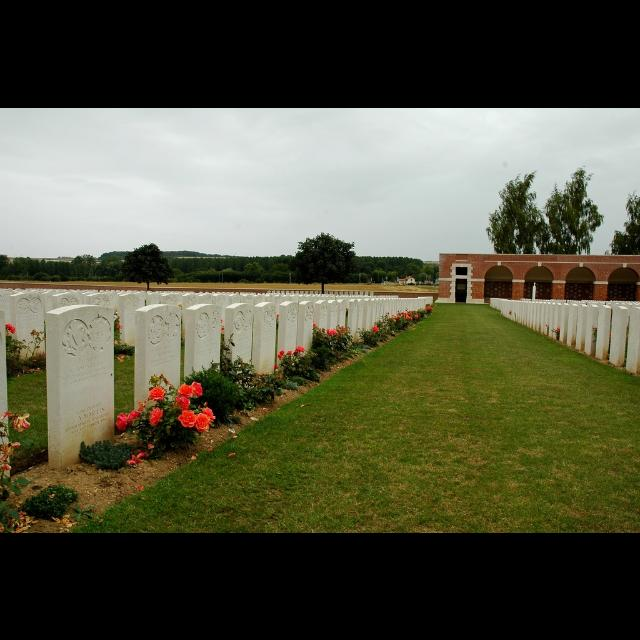Flower: (3, 412, 31, 430), (180, 408, 197, 428), (1, 440, 18, 458), (174, 393, 192, 409), (391, 309, 419, 319), (114, 412, 128, 431), (125, 408, 141, 424), (178, 382, 196, 396), (148, 406, 160, 426), (196, 412, 208, 432), (150, 386, 167, 399), (190, 381, 203, 397), (201, 406, 213, 422), (324, 325, 338, 337), (0, 459, 10, 473), (296, 346, 306, 356), (6, 322, 14, 334), (420, 302, 432, 310), (276, 348, 284, 358), (370, 324, 380, 332), (116, 322, 122, 330), (288, 346, 294, 354), (312, 321, 318, 329), (554, 328, 560, 332), (221, 326, 225, 330)
